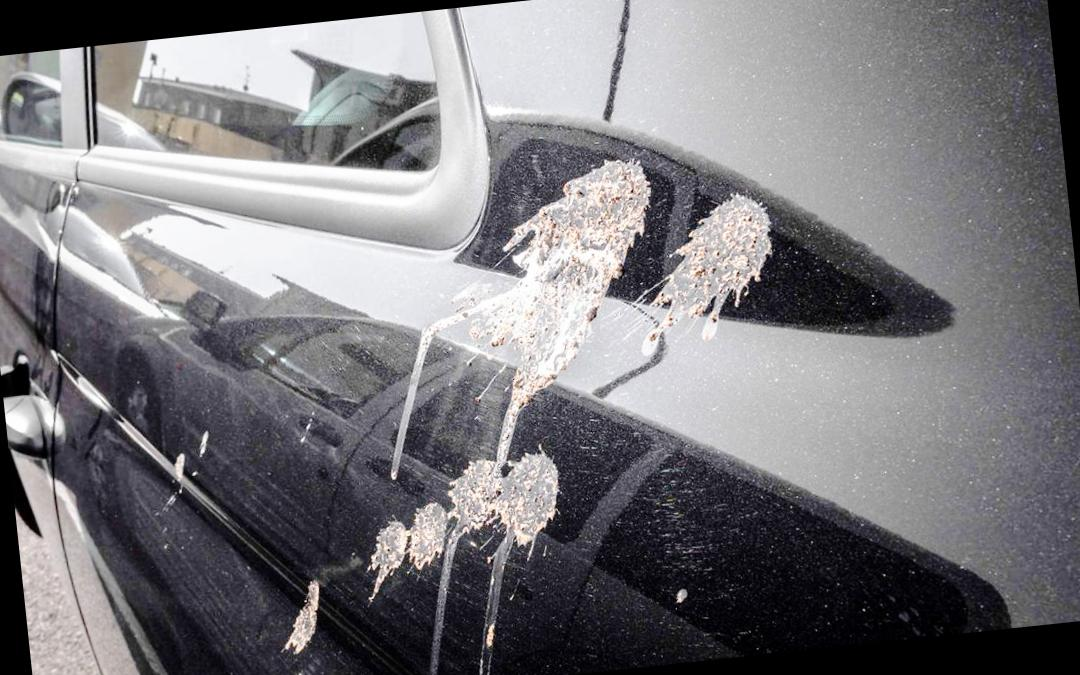Bird Poop: (392, 160, 650, 477), (369, 439, 558, 675), (644, 193, 770, 343), (289, 584, 317, 650), (173, 452, 186, 482), (198, 431, 208, 456), (675, 588, 688, 603)
